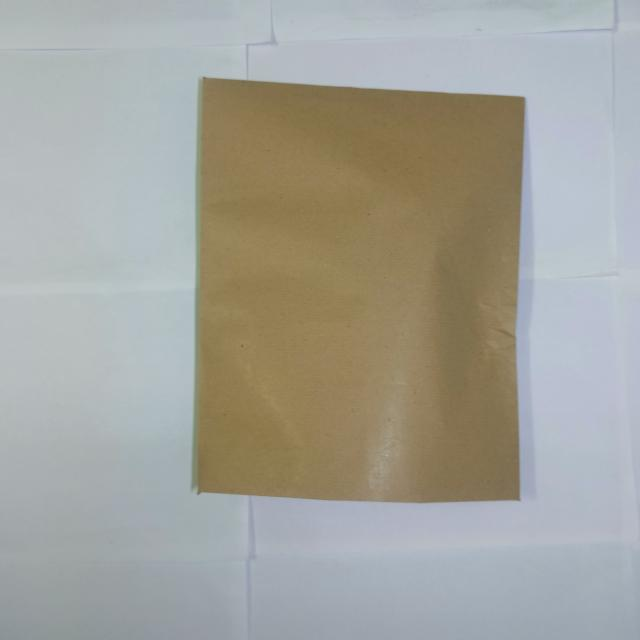box: (191, 79, 530, 507)
